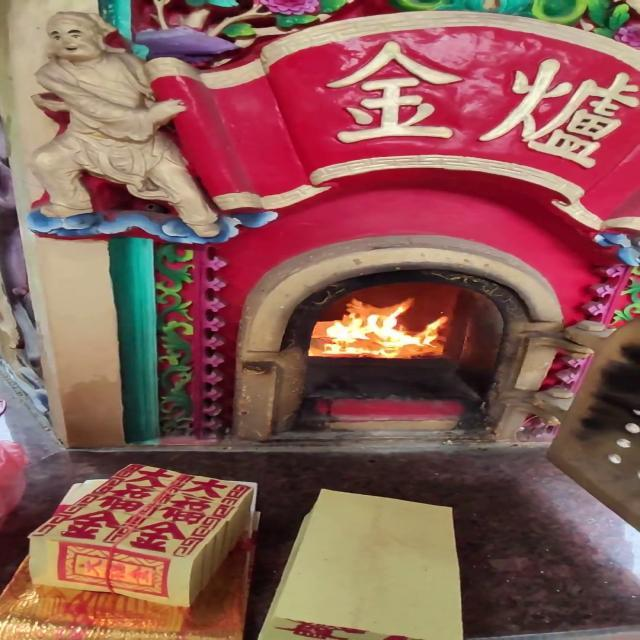Fire: (311, 294, 453, 359)
